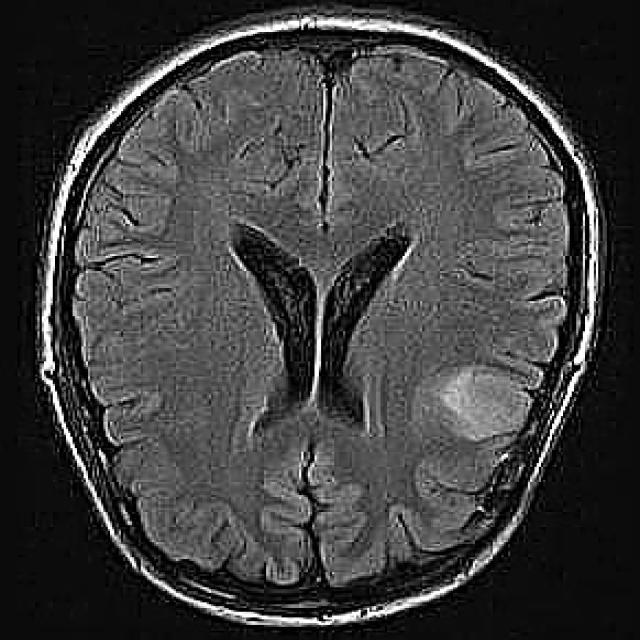Tumor-Cell: (432, 345, 553, 454)
